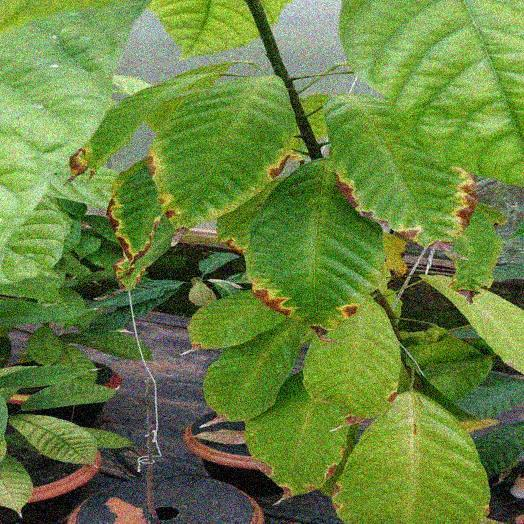Healthy Leaf: (340, 0, 523, 185), (10, 415, 96, 463), (23, 380, 113, 410)
Potassium: (245, 160, 384, 327), (325, 94, 475, 246), (149, 76, 293, 227), (70, 64, 228, 175), (246, 373, 348, 499), (303, 302, 400, 423), (107, 160, 162, 265)
